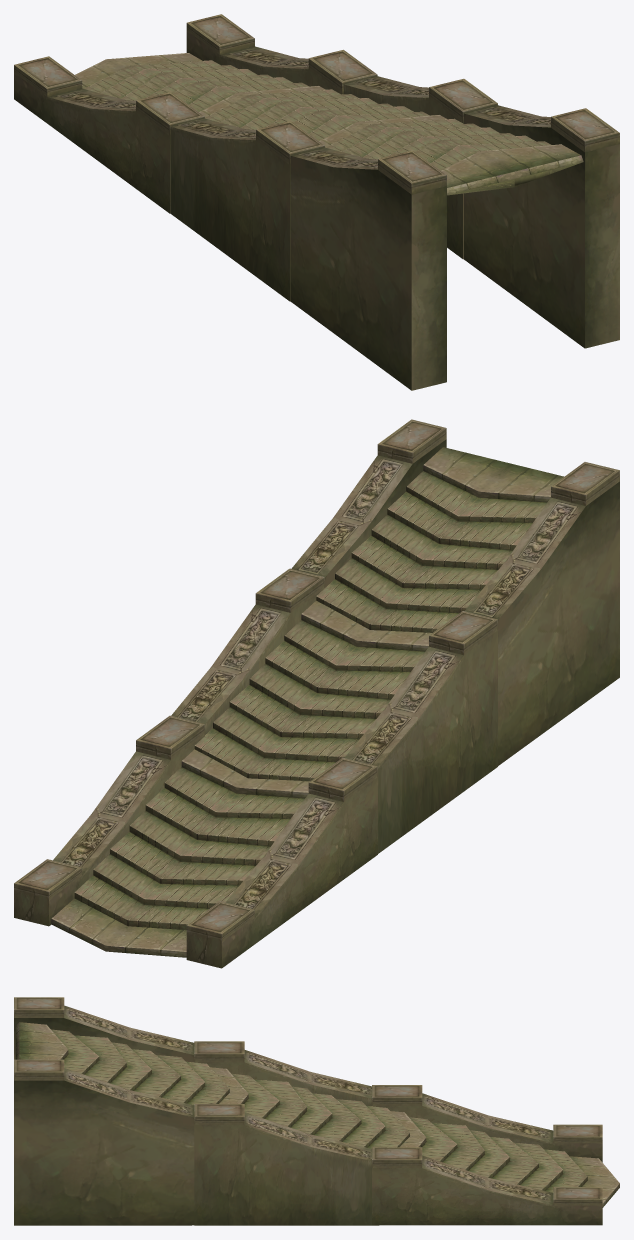
Rendered from jintf_wujian_03.FBX.
The picture shows the model from 3 angles, top to bottom: view 1: azimuth 30°, elevation 25°; view 2: azimuth 150°, elevation 25°; view 3: azimuth 270°, elevation 25°; orthographic projection. The views are drawn at different scales.
Visible parts, largest first — view 1: jintf_wujian_03; view 2: jintf_wujian_03; view 3: jintf_wujian_03.
Part boxes in pixels (x1,y1,x2,y2): jintf_wujian_03: (14,14,619,390); jintf_wujian_03: (14,419,619,968); jintf_wujian_03: (14,997,619,1225).
Bounding box in the file's own units: 464 × 441 × 1580.
